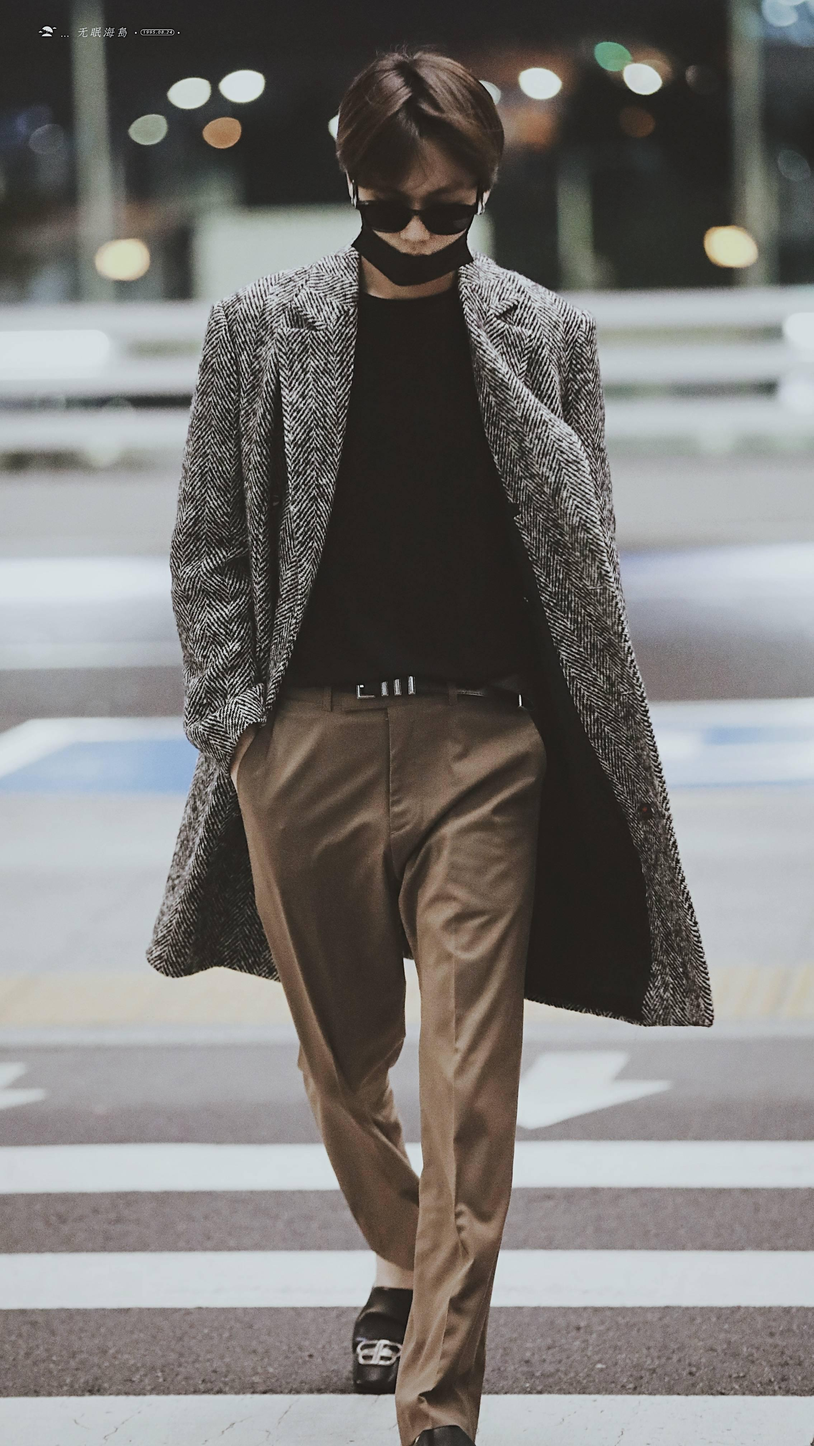WRONG: (358, 160, 478, 287)
